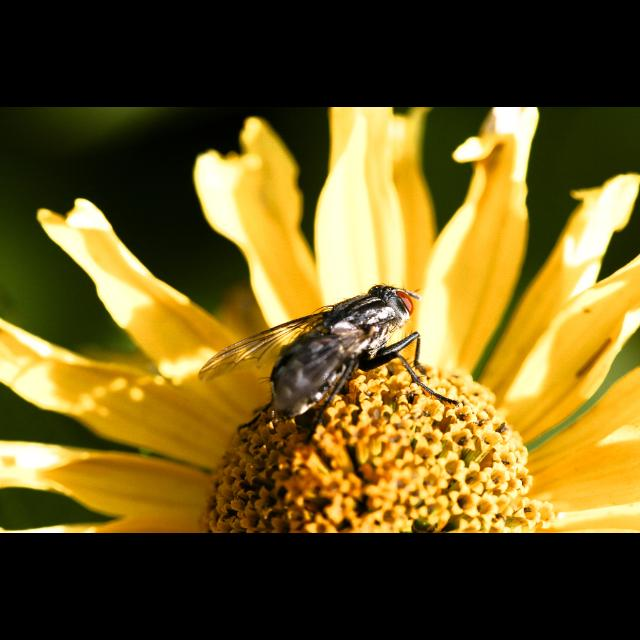Flower: (52, 145, 590, 530)
